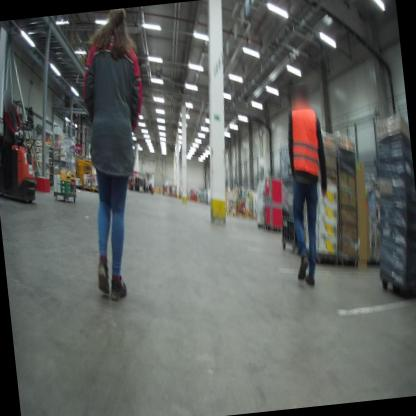pallet_truck: (0, 120, 46, 209)
